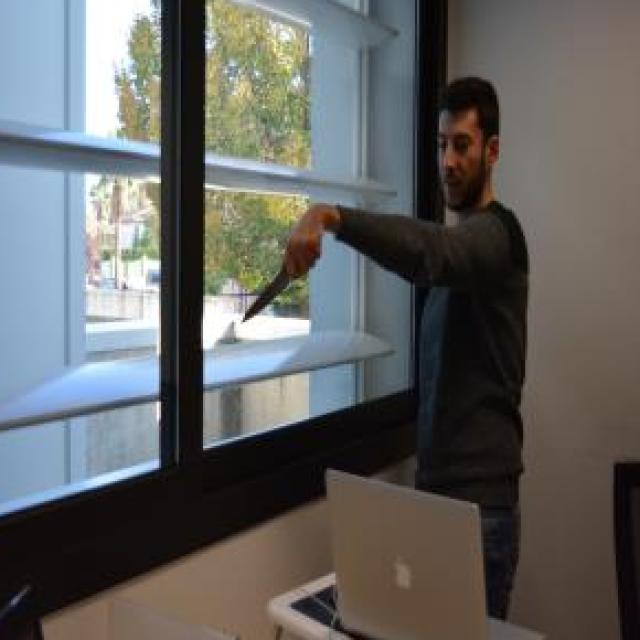knife: (238, 258, 302, 326)
